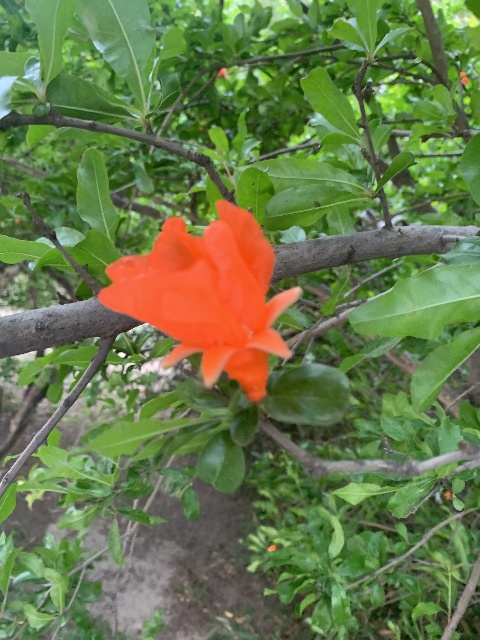bud: (268, 544, 277, 552)
flower: (96, 199, 301, 402)
